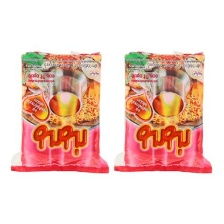snack: (109, 46, 216, 179), (6, 46, 112, 178)
